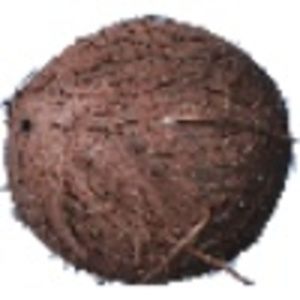coco: (1, 13, 299, 287)
